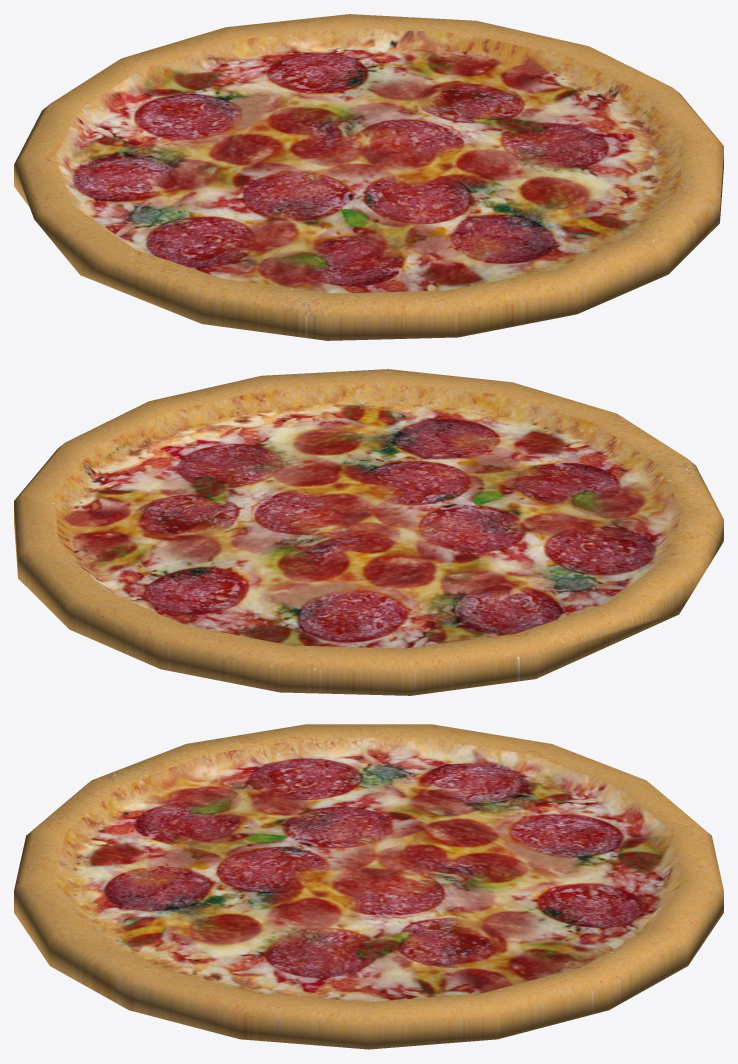
The model's file is Pizza_full.FBX.
The picture shows the model from 3 angles, top to bottom: view 1: azimuth 30°, elevation 25°; view 2: azimuth 150°, elevation 25°; view 3: azimuth 270°, elevation 25°; orthographic projection.
Visible parts, largest first — view 1: ChamferCyl001; view 2: ChamferCyl001; view 3: ChamferCyl001.
Part boxes in pixels (bbox=[...]): ChamferCyl001: bbox=[14, 14, 723, 340]; ChamferCyl001: bbox=[14, 369, 723, 695]; ChamferCyl001: bbox=[14, 724, 723, 1049].
Size of the model in its own units: 250 by 14.96 by 251.
1 material, 1 textured.
